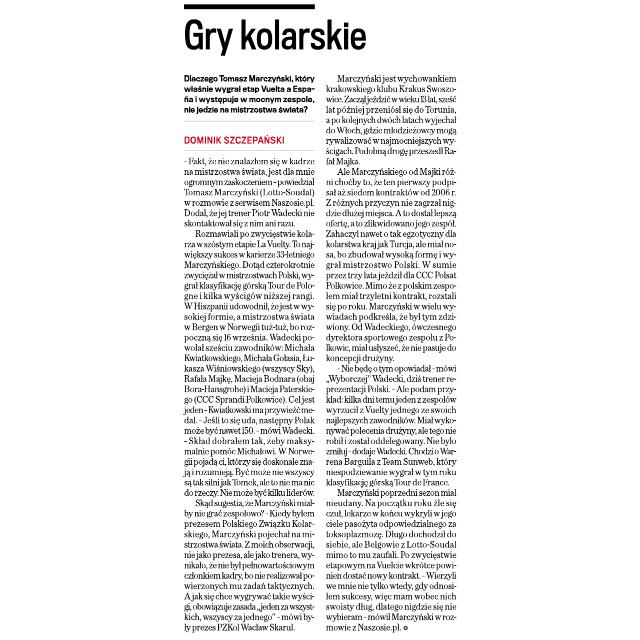author: (180, 132, 292, 148)
body: (322, 71, 461, 634), (179, 154, 317, 636)
lead: (180, 74, 318, 116)
title: (181, 12, 389, 60)
